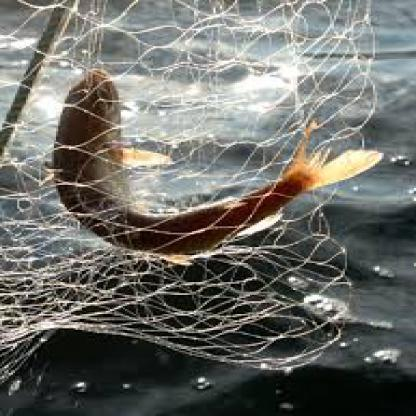fish: (49, 73, 392, 256)
